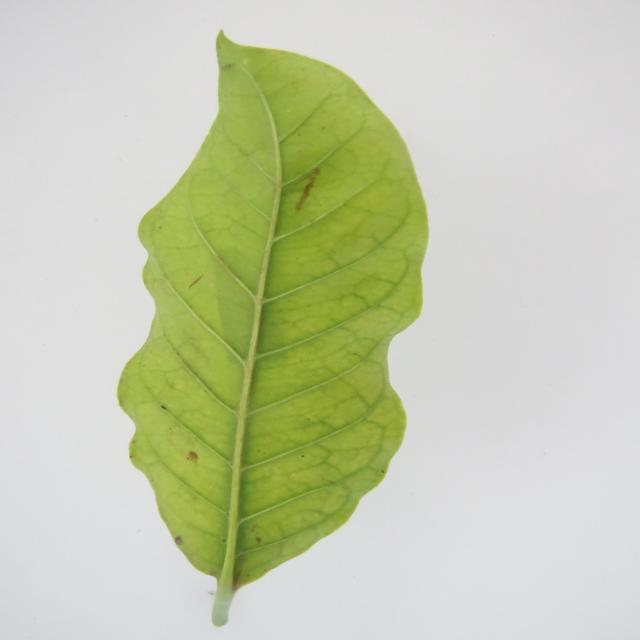DeficienciaNutricional-Manganeso: (118, 34, 427, 625)
